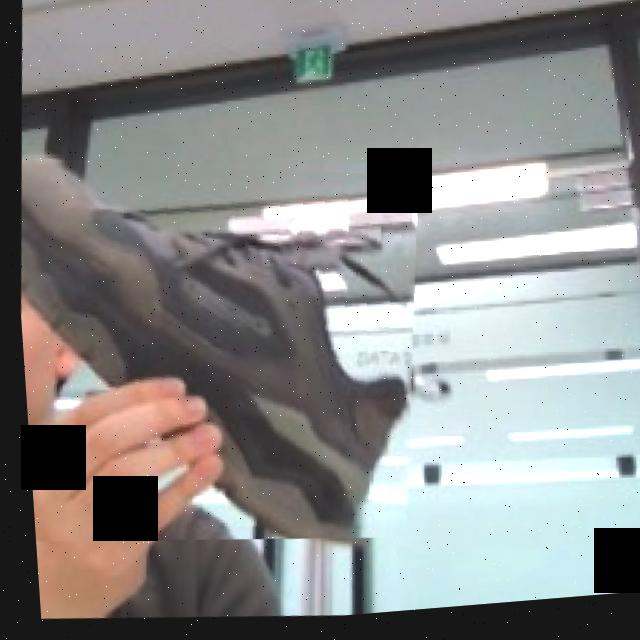shoe: (8, 136, 435, 568)
